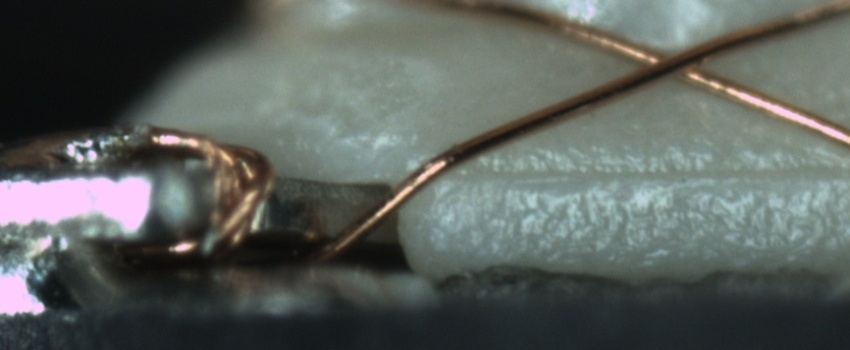CL: (615, 34, 737, 88)
DL: (424, 143, 849, 206)
TE: (137, 120, 277, 255)
